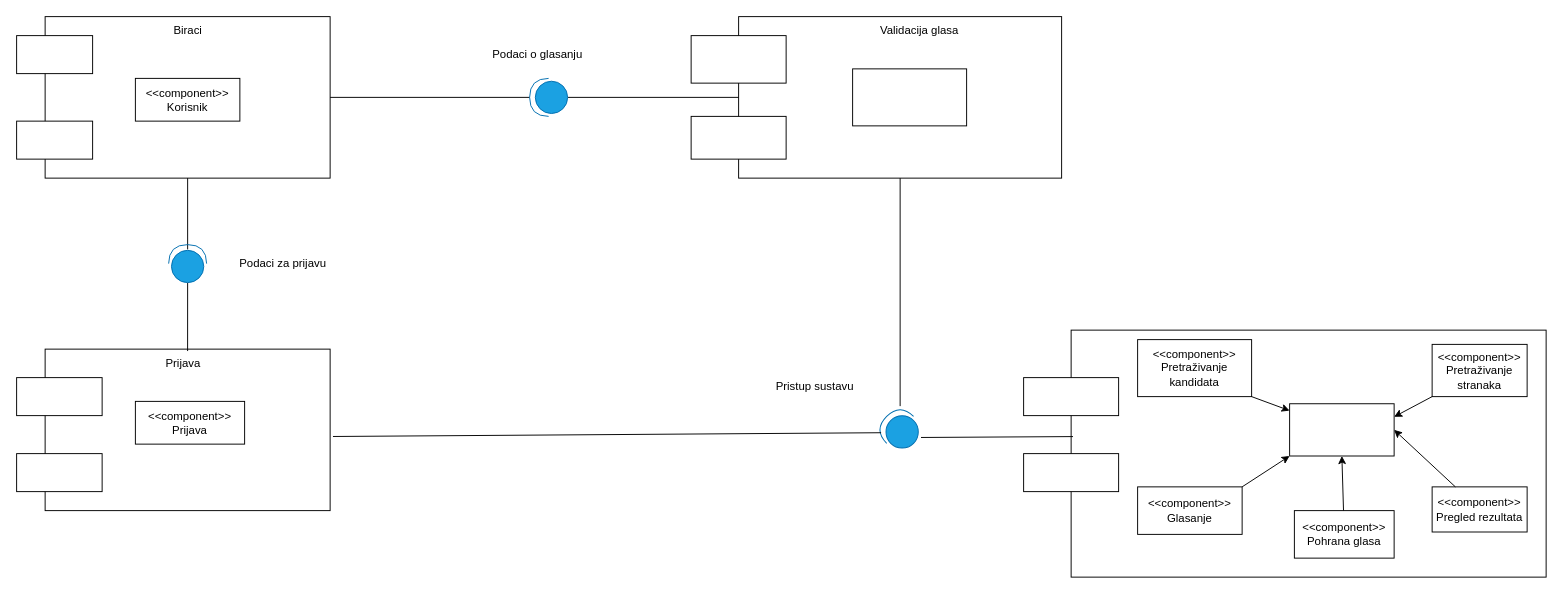
This 1563x594 diagram has some shape labels left out. Each missing label, with the centre of its shape:
<<component>> Aktivacija: point (909, 97)
<<component>> Kabelska Televizija: point (1341, 429)
